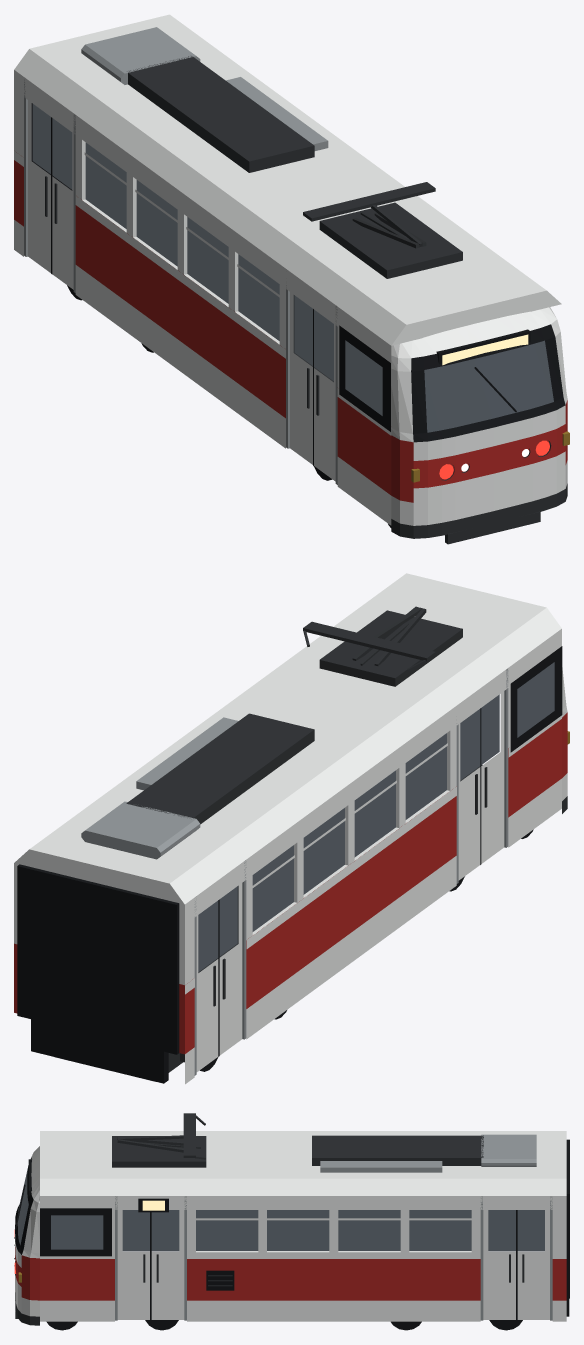
3 views of the same model, one above another, from view 1: azimuth 30°, elevation 25°; view 2: azimuth 150°, elevation 25°; view 3: azimuth 270°, elevation 25° (orthographic). The views are drawn at different scales.
Visible parts, largest first — view 1: kt8d5-c; view 2: kt8d5-c; view 3: kt8d5-c.
Part boxes in pixels (<box>): kt8d5-c: <box>14,14,569,544</box>; kt8d5-c: <box>14,573,569,1084</box>; kt8d5-c: <box>14,1113,569,1330</box>.
Bounding box in the file's own units: 2.51 × 3.44 × 10.02.
